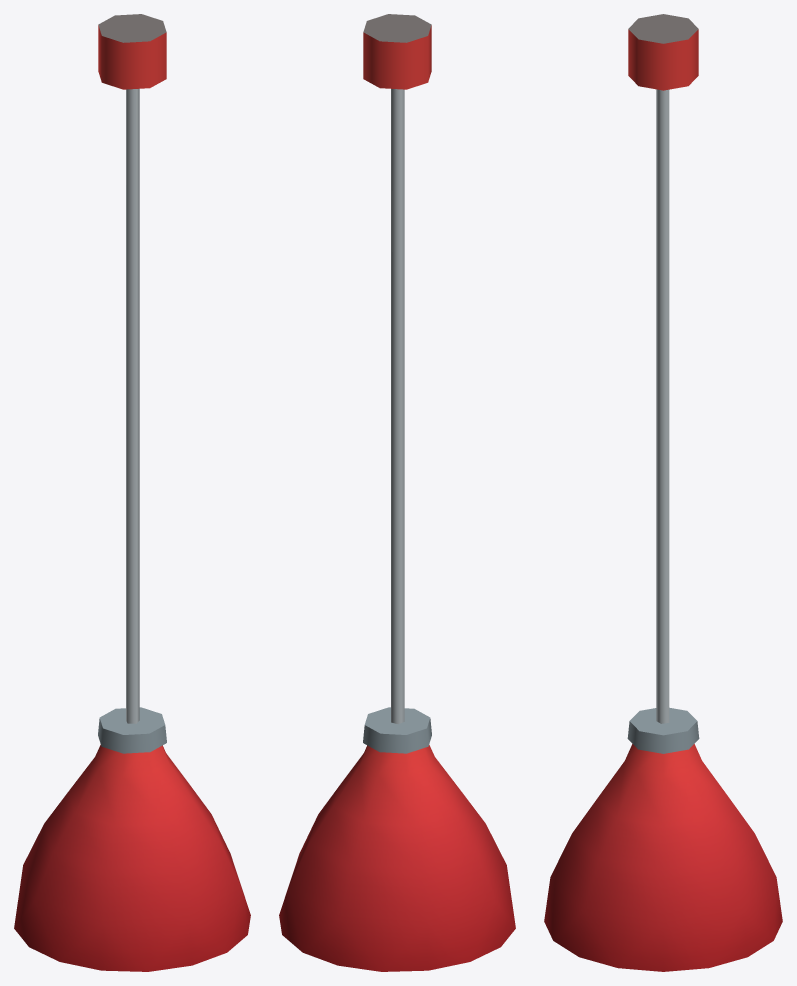
File: Lamp_05.obj
The picture shows the model from 3 angles, left to right: view 1: azimuth 30°, elevation 25°; view 2: azimuth 150°, elevation 25°; view 3: azimuth 270°, elevation 25°; orthographic projection.
Visible parts, largest first — view 1: Lamp_05; view 2: Lamp_05; view 3: Lamp_05.
Boxes of the visible parts, bbox=[...] form: Lamp_05: bbox=[14, 14, 250, 971]; Lamp_05: bbox=[279, 14, 515, 971]; Lamp_05: bbox=[544, 14, 782, 971].
Size of the model in its own units: 0.82 by 3.38 by 0.82.
Materials: 2 (2 with a texture image).
